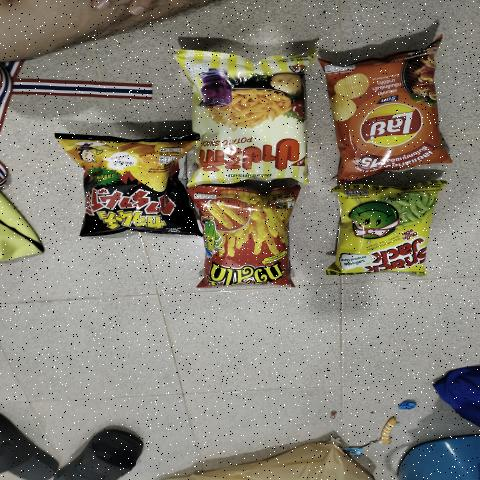karamujo: (83, 139, 175, 229)
paprika: (185, 54, 312, 180)
snack_jack: (350, 187, 422, 271)
twisco: (196, 192, 284, 283)
